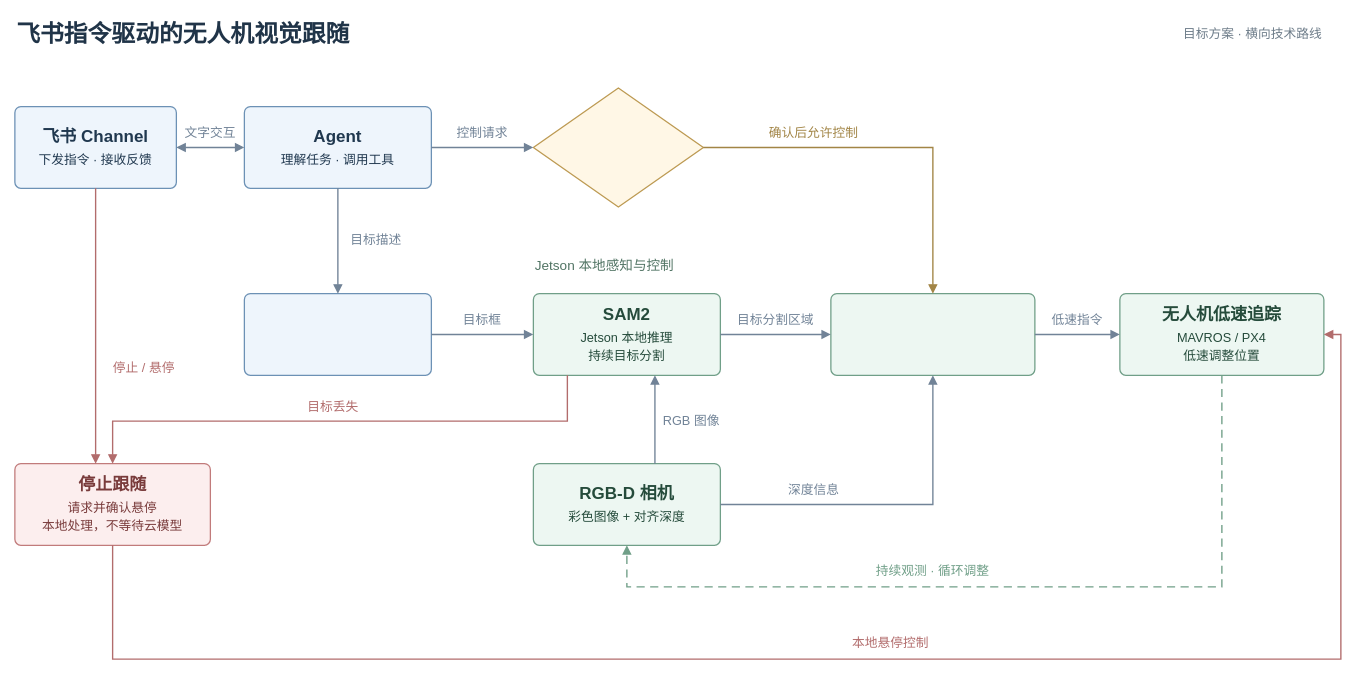
The diagram is 1364 pixels wide and 682 high, and some of its shapes have lost their labels. The box of each missing label's shape, as (x1, y1, x2, y2) in pixels:
DINO-XSeek 云端 API 调用 语义级目标检测: (243, 293, 432, 376)
HITL 飞书人工确认: (532, 87, 704, 207)
跟随控制工具 目标距离估计 维持指定跟随距离: (830, 293, 1035, 376)
